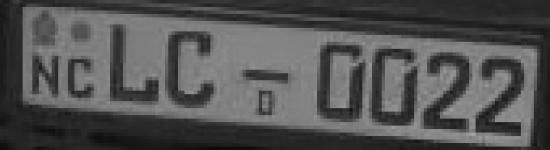-: (236, 59, 297, 93)
0: (310, 35, 369, 127), (368, 42, 419, 129)
2: (474, 51, 529, 142), (418, 45, 474, 134)
C: (163, 26, 223, 114), (63, 52, 100, 104)
L: (102, 19, 164, 110)
N: (27, 49, 62, 104)
